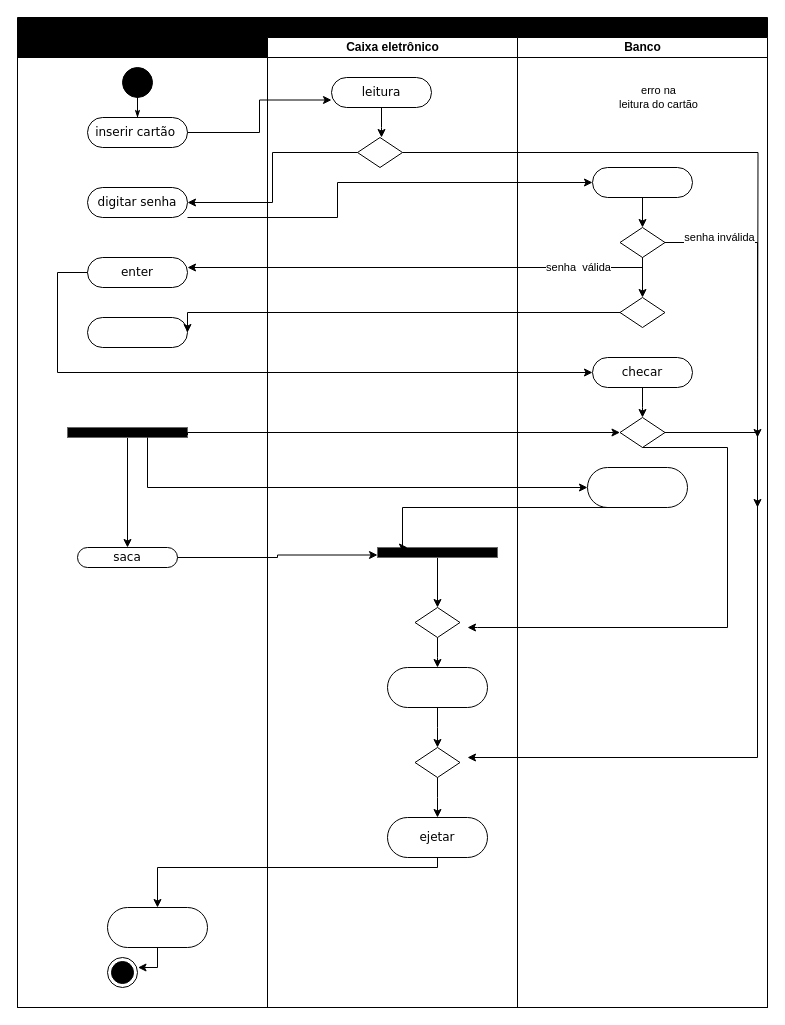
Some shapes in this 785 by 1025 pixel diagram are drawn without their labels. The shapes that lost their labels are listed below. From the top down, each one's centre as x and y in pixels, then its label:
At (x=642, y=182): "autorização".
At (x=137, y=332): "redigitar".
At (x=637, y=487): "debita".
At (x=437, y=687): "mostrar".
At (x=157, y=927): "n sei oq vc escreveu".
